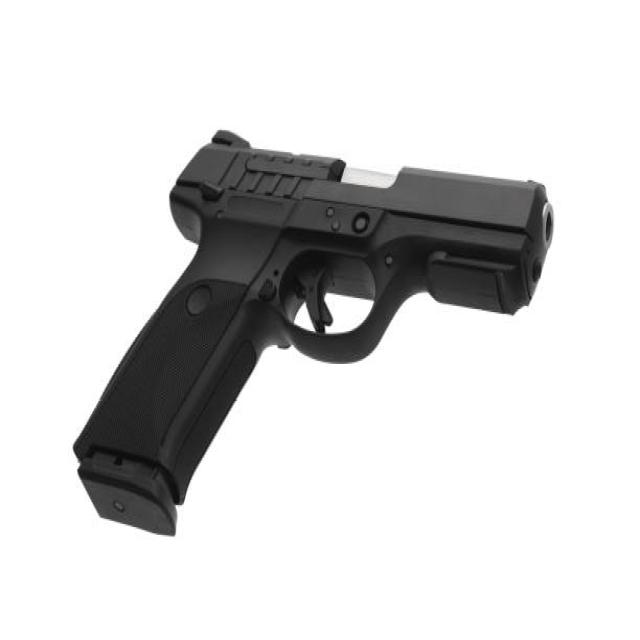pistol: (66, 121, 557, 540)
